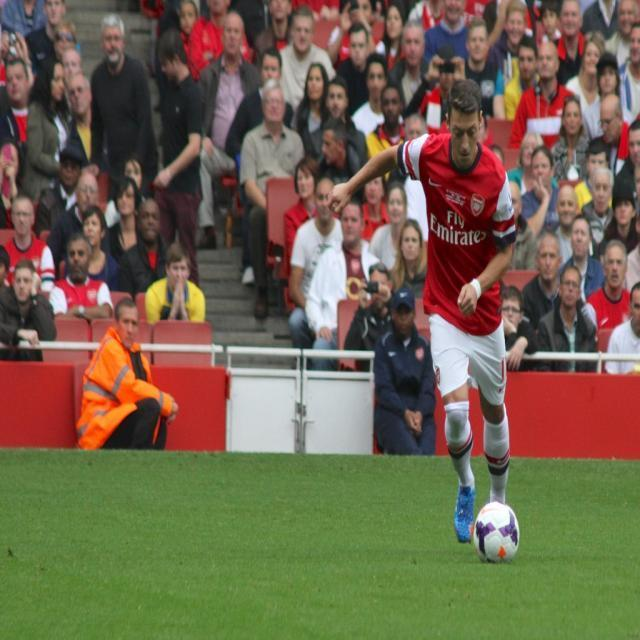football: (449, 488, 556, 566)
